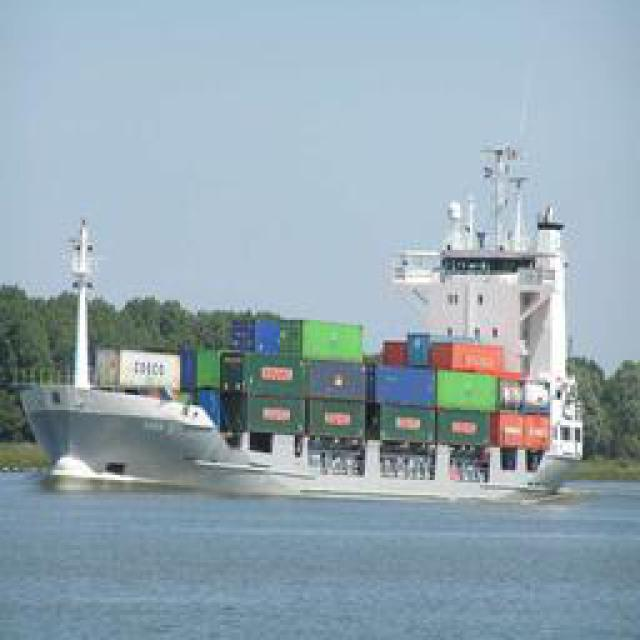Ship: (21, 385, 246, 490)
